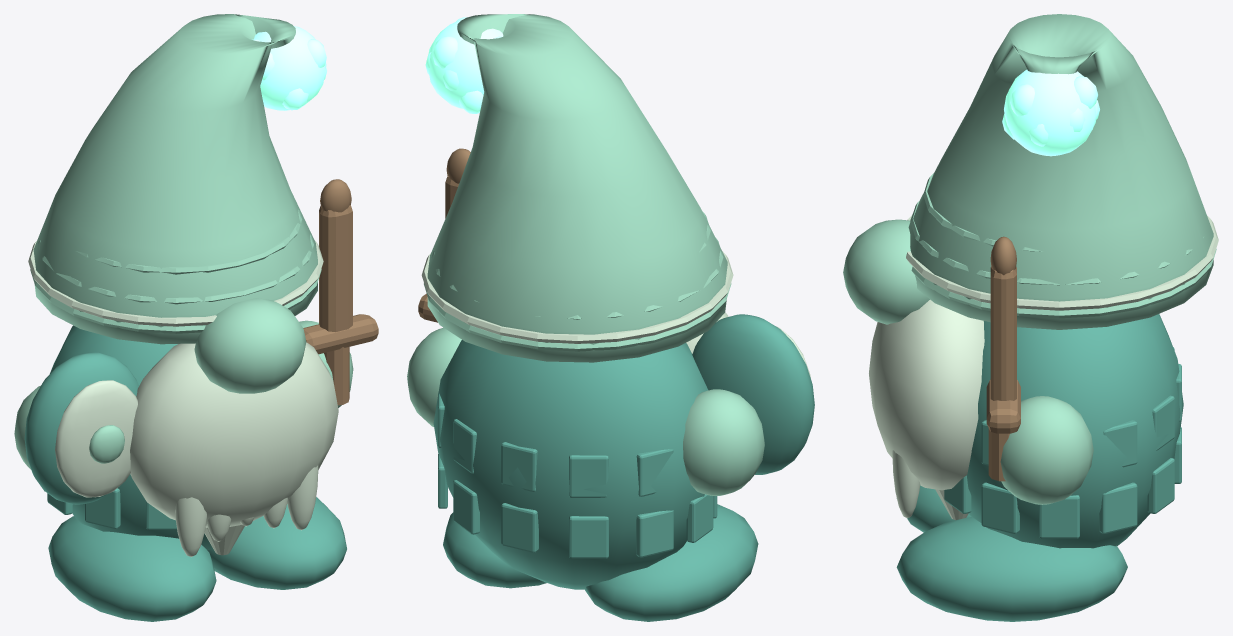
Rendered from reborn-gnome.glb.
The picture shows the model from 3 angles, left to right: view 1: azimuth 30°, elevation 25°; view 2: azimuth 150°, elevation 25°; view 3: azimuth 270°, elevation 25°; orthographic projection. The views are drawn at different scales.
Parts seen in each view (by area): view 1: reborn-gnome; view 2: reborn-gnome; view 3: reborn-gnome.
Boxes of the visible parts, x1,y1,x2,y2 form: reborn-gnome: (14, 14, 378, 621); reborn-gnome: (407, 14, 814, 621); reborn-gnome: (843, 14, 1218, 621).
Size of the model in its own units: 0.7497 by 1.05 by 0.6307.
